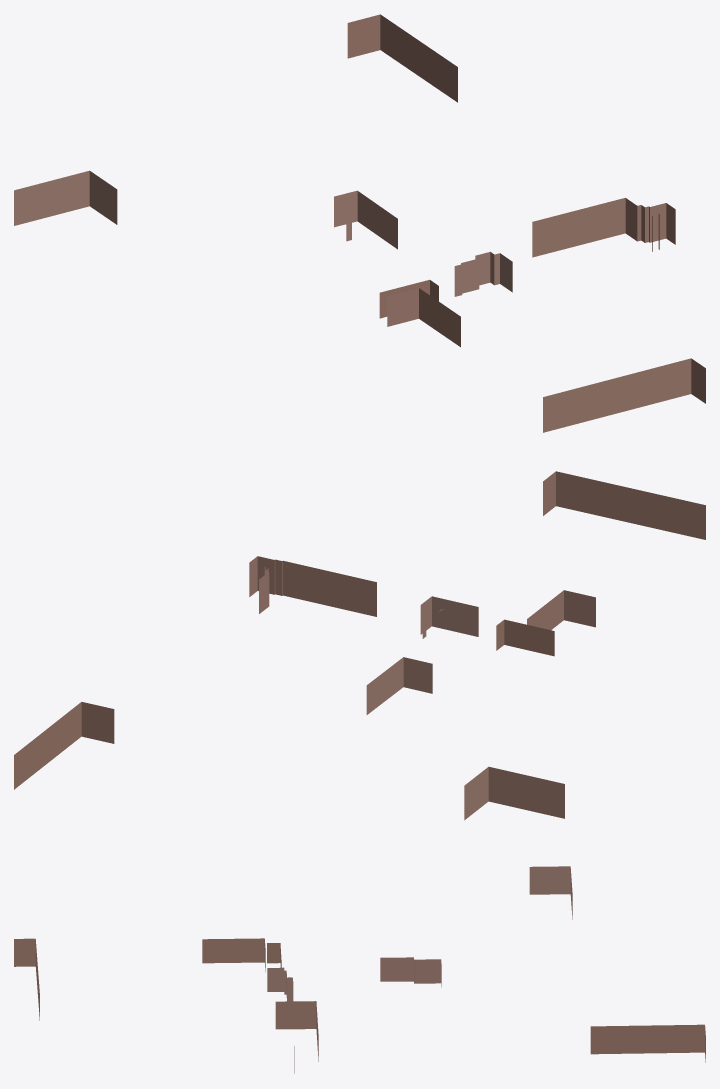
File: c_1632_17825_buildings_residential.glb
3 views of the same model, one above another, from view 1: azimuth 30°, elevation 25°; view 2: azimuth 150°, elevation 25°; view 3: azimuth 270°, elevation 25° (orthographic). The views are drawn at different scales.
Visible parts, largest first — view 1: geometry_0; view 2: geometry_0; view 3: geometry_0.
Boxes of the visible parts, bbox=[...] form: geometry_0: bbox=[14, 14, 705, 432]; geometry_0: bbox=[14, 471, 705, 820]; geometry_0: bbox=[14, 866, 705, 1073].
Size of the model in its own units: 153 by 12.18 by 247.
